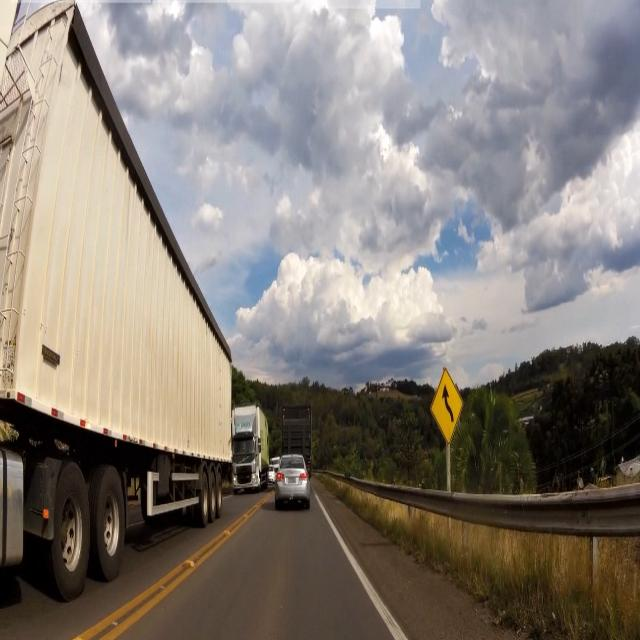A-5a: (425, 366, 464, 444)
